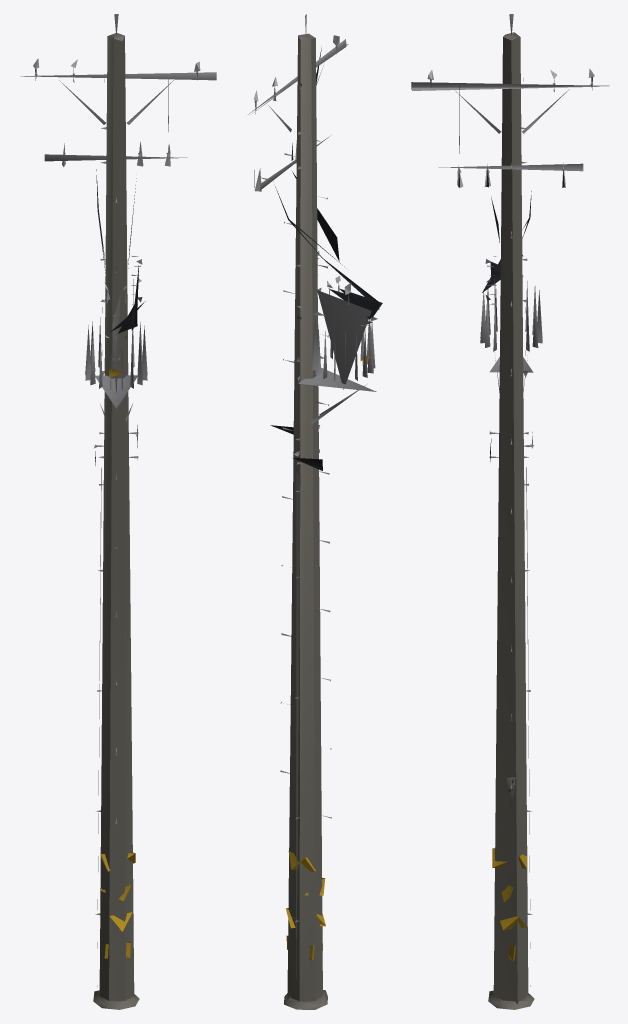
The model's file is SM_UtilityPole.glb.
The picture shows the model from 3 angles, left to right: view 1: azimuth 90°, elevation 25°; view 2: azimuth 150°, elevation 25°; view 3: azimuth 270°, elevation 25°; orthographic projection.
Visible parts, largest first — view 1: SM_UtilityPole; view 2: SM_UtilityPole; view 3: SM_UtilityPole.
Boxes of the visible parts, bbox=[...] form: SM_UtilityPole: bbox=[21, 14, 216, 1009]; SM_UtilityPole: bbox=[248, 14, 382, 1009]; SM_UtilityPole: bbox=[411, 14, 609, 1009].
Bounding box in the file's own units: 1.44 × 11.48 × 2.14.
